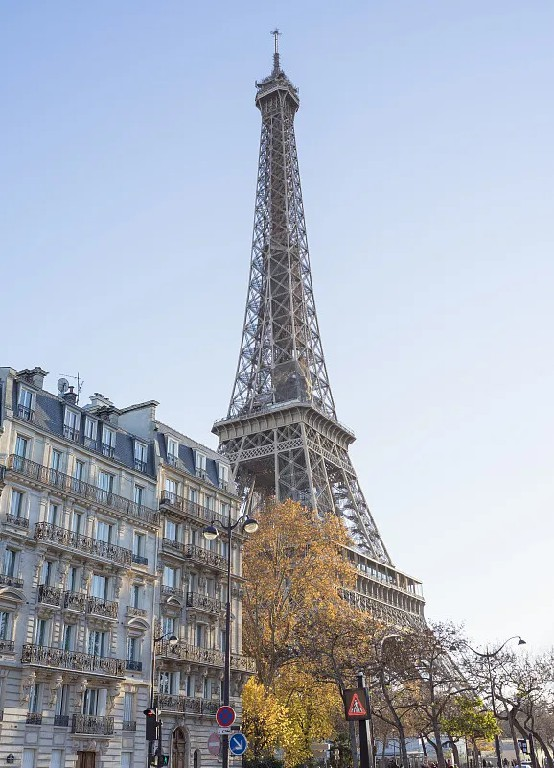Eiffel: (212, 30, 489, 726)
